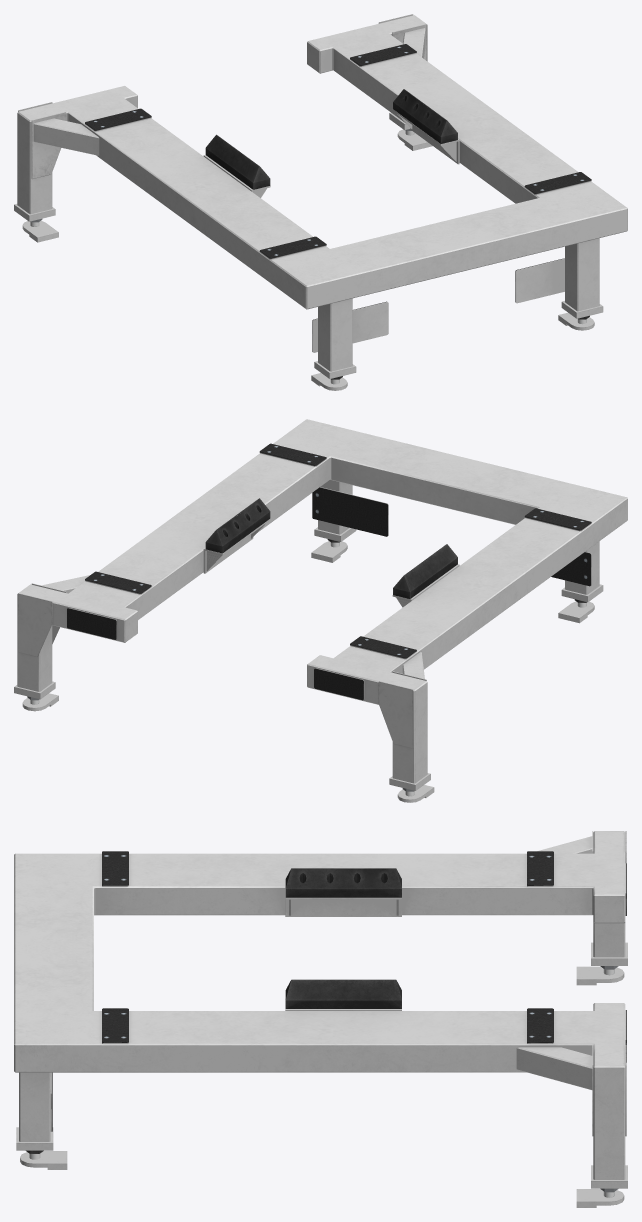
File: Otto1500_StandLow.fbx
The picture shows the model from 3 angles, top to bottom: view 1: azimuth 30°, elevation 25°; view 2: azimuth 150°, elevation 25°; view 3: azimuth 270°, elevation 25°; orthographic projection. The views are drawn at different scales.
Parts seen in each view (by area): view 1: Otto1500_StandLow; view 2: Otto1500_StandLow; view 3: Otto1500_StandLow.
Part boxes in pixels (x1=…): Otto1500_StandLow: x1=14, y1=14, x2=627, y2=390; Otto1500_StandLow: x1=14, y1=419, x2=627, y2=802; Otto1500_StandLow: x1=14, y1=831, x2=627, y2=1207.
Size of the model in its own units: 205 by 188 by 61.28.
Materials: 1 (1 with a texture image).
